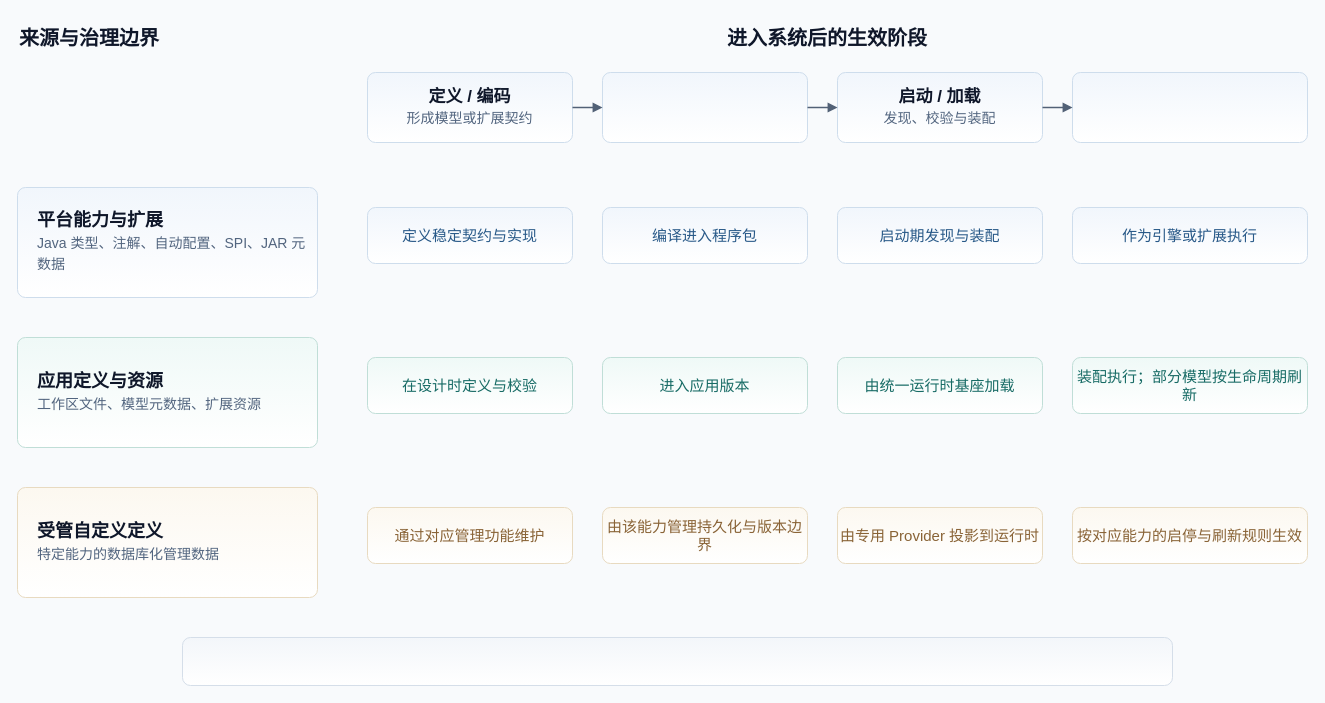
Image size: 1325x703. Some labels were removed from this diagram. Here are the shapes that lost their labels. From the top down, the centre of each, then its label:
At [705,107]: "版本 / 打包 形成可交付资产".
At [1190,107]: "运行 / 刷新 解释、执行或按契约刷新".
At [677,661]: "来源决定模型由谁定义和如何治理；阶段决定模型何时被发现、装载与执行。两者不能混为同一分类。".
